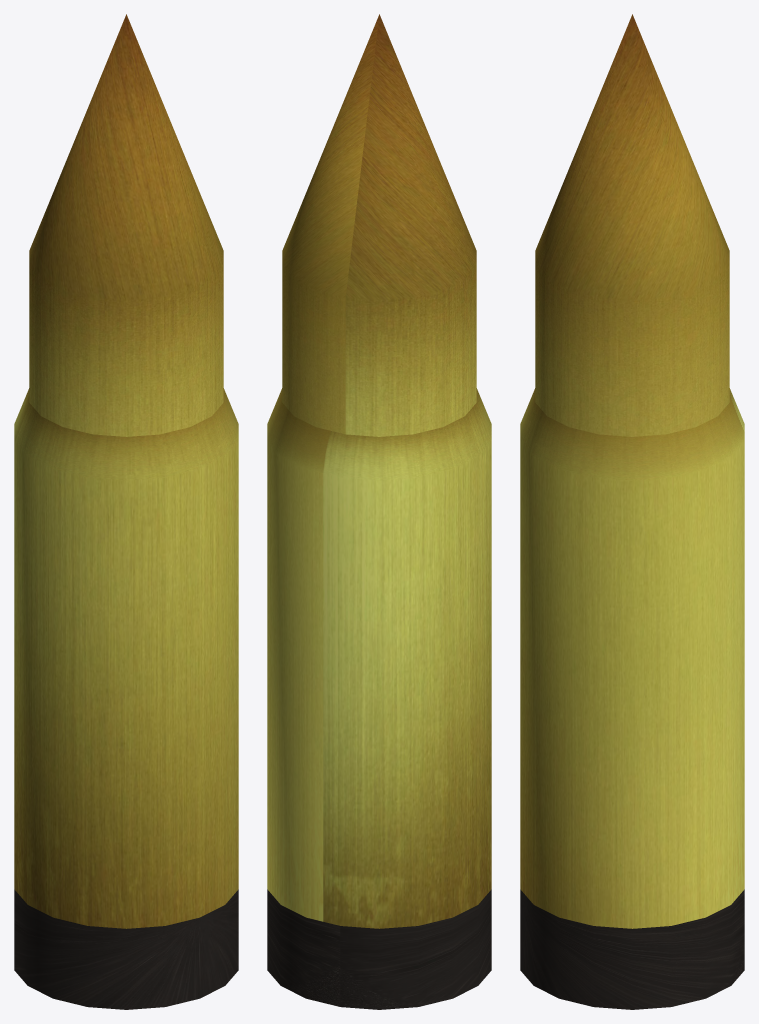
The model's file is Bullet.FBX.
3 renders of one model, left to right at view 1: azimuth 30°, elevation 25°; view 2: azimuth 150°, elevation 25°; view 3: azimuth 270°, elevation 25°, orthographic.
Parts seen in each view (by area): view 1: Bullet; view 2: Bullet; view 3: Bullet.
Part boxes in pixels (bbox=[...]): Bullet: bbox=[14, 14, 238, 1009]; Bullet: bbox=[267, 14, 491, 1009]; Bullet: bbox=[520, 14, 744, 1009].
Bounding box in the file's own units: 20.93 × 95.97 × 20.61.
